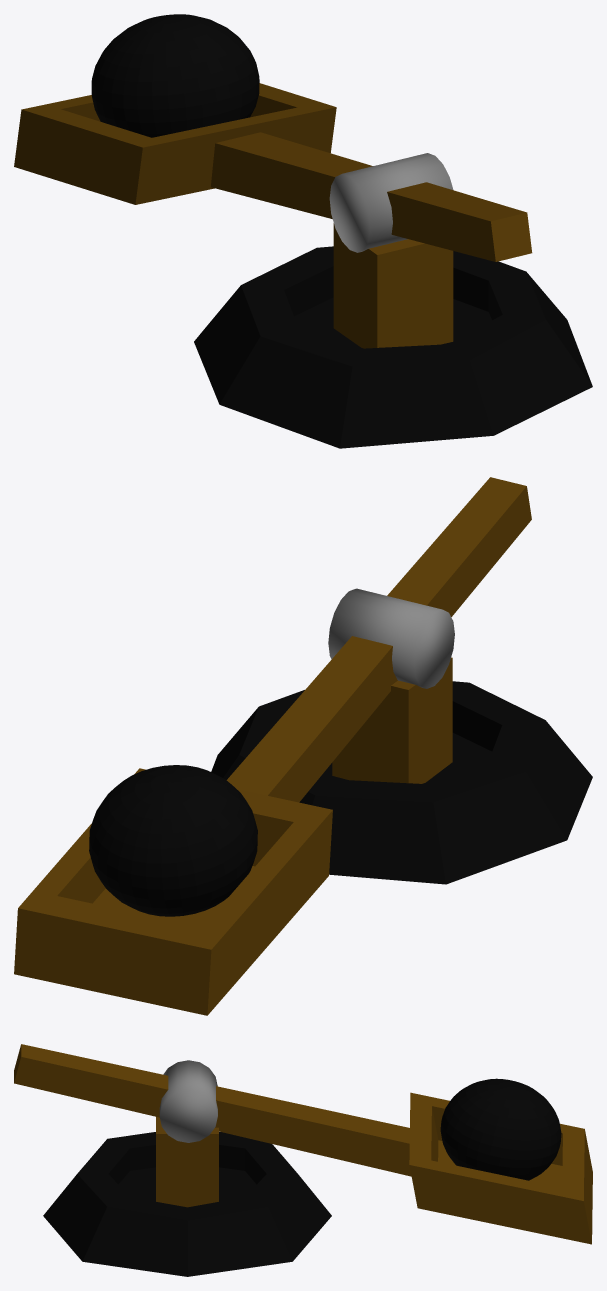
File: CatapultaSINsoportes.fbx
3 renders of one model, top to bottom at view 1: azimuth 30°, elevation 25°; view 2: azimuth 150°, elevation 25°; view 3: azimuth 270°, elevation 25°, orthographic. The views are drawn at different scales.
Visible parts, largest first — view 1: Base, Base.001; view 2: Base.001, Base; view 3: Base.001, Base.
Part boxes in pixels (x1=…): Base: x1=194, y1=223, x2=592, y2=448; Base.001: x1=14, y1=14, x2=532, y2=261; Base.001: x1=14, y1=477, x2=531, y2=1015; Base: x1=211, y1=657, x2=592, y2=884; Base.001: x1=14, y1=1044, x2=592, y2=1244; Base: x1=43, y1=1117, x2=331, y2=1276.
Bounding box in the file's own units: 360 × 229 × 721.
